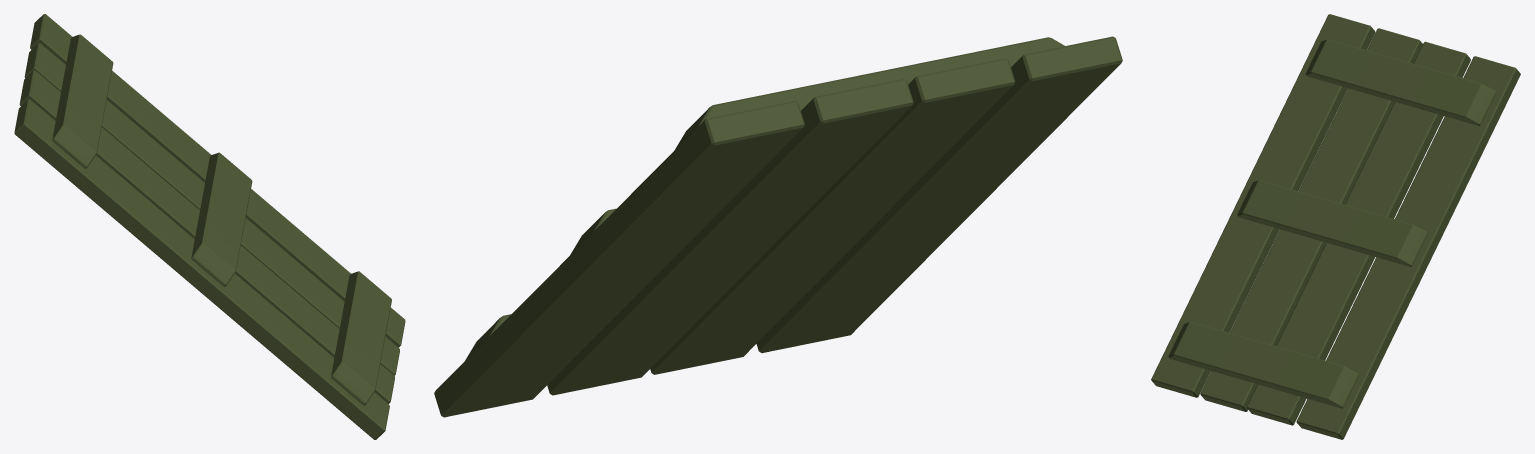
File: caixa_4_tampa.glb
The picture shows the model from 3 angles, left to right: view 1: azimuth 30°, elevation 25°; view 2: azimuth 150°, elevation 25°; view 3: azimuth 270°, elevation 25°; orthographic projection. The views are drawn at different scales.
Parts seen in each view (by area): view 1: SM_WeaponCrate_04_L; view 2: SM_WeaponCrate_04_L; view 3: SM_WeaponCrate_04_L.
Part boxes in pixels (x1,y1,x2,y2): SM_WeaponCrate_04_L: (14, 14, 405, 439); SM_WeaponCrate_04_L: (434, 36, 1122, 417); SM_WeaponCrate_04_L: (1151, 14, 1520, 439).
Size of the model in its own units: 0.957 by 0.7104 by 0.8978.
